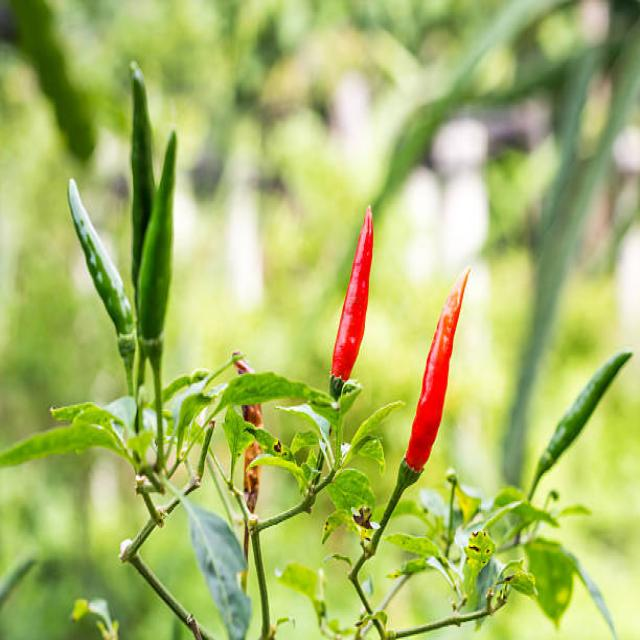Ripe: (405, 269, 469, 471), (331, 207, 374, 381)
Unripe: (529, 350, 632, 499), (68, 178, 135, 393), (139, 133, 174, 372), (131, 62, 155, 308)
